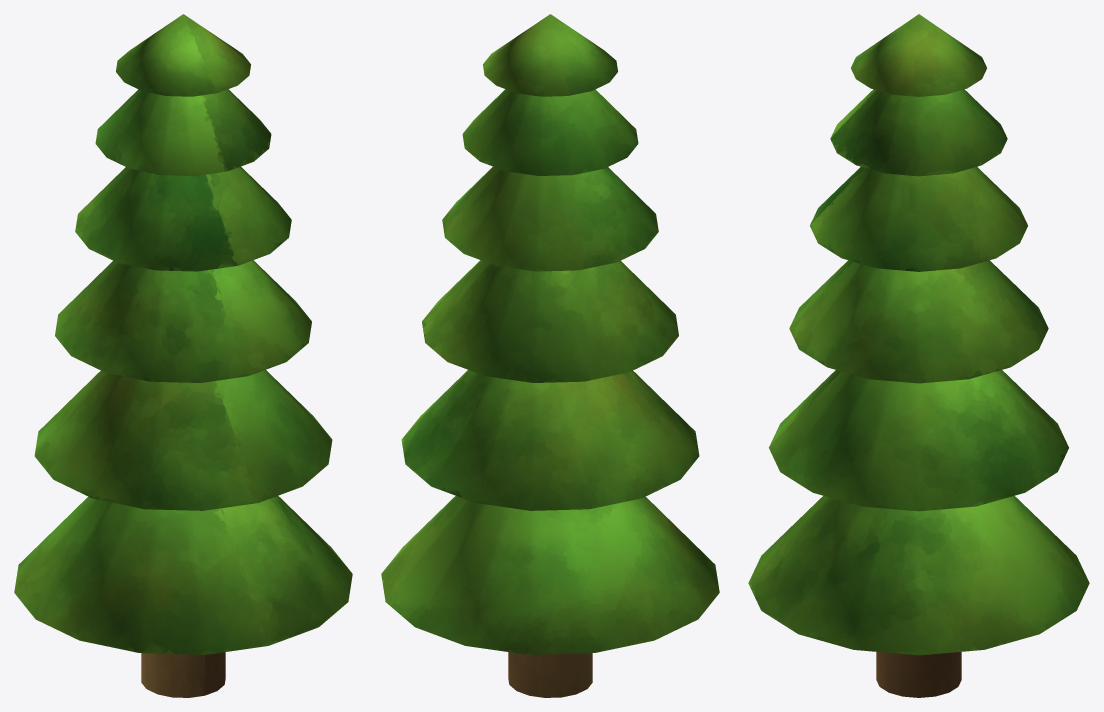
File: Arbol_Terreno.fbx
3 renders of one model, left to right at view 1: azimuth 30°, elevation 25°; view 2: azimuth 150°, elevation 25°; view 3: azimuth 270°, elevation 25°, orthographic.
Parts seen in each view (by area): view 1: Arbol.002; view 2: Arbol.002; view 3: Arbol.002.
Part boxes in pixels (x1,y1,x2,y2): Arbol.002: (14, 14, 352, 697); Arbol.002: (381, 14, 719, 697); Arbol.002: (748, 14, 1089, 697).
Bounding box in the file's own units: 800 × 1722 × 800.
Materials: 3 (3 with a texture image).
